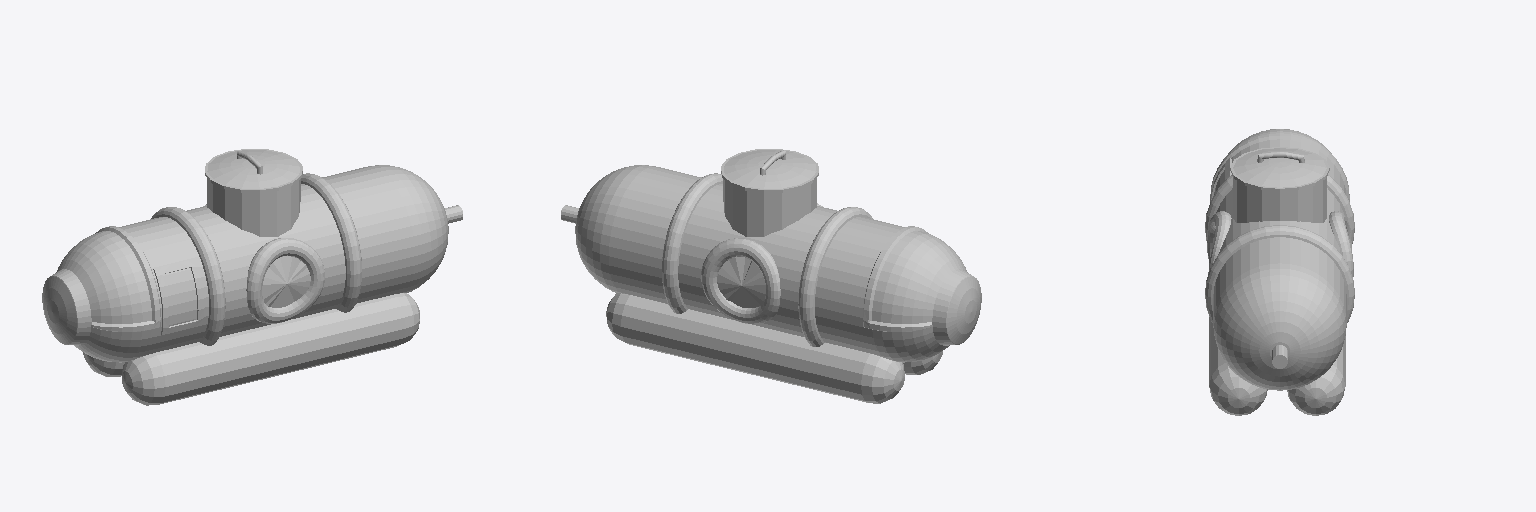
The model's file is submarine.obj.
3 renders of one model, left to right at view 1: azimuth 30°, elevation 25°; view 2: azimuth 150°, elevation 25°; view 3: azimuth 270°, elevation 25°, orthographic.
Visible parts, largest first — view 1: propeller; view 2: propeller; view 3: propeller.
Boxes of the visible parts, x1=… form: propeller: x1=42, y1=149, x2=462, y2=405; propeller: x1=561, y1=149, x2=981, y2=403; propeller: x1=1205, y1=129, x2=1354, y2=415.
Size of the model in its own units: 52.97 by 25.24 by 16.92.